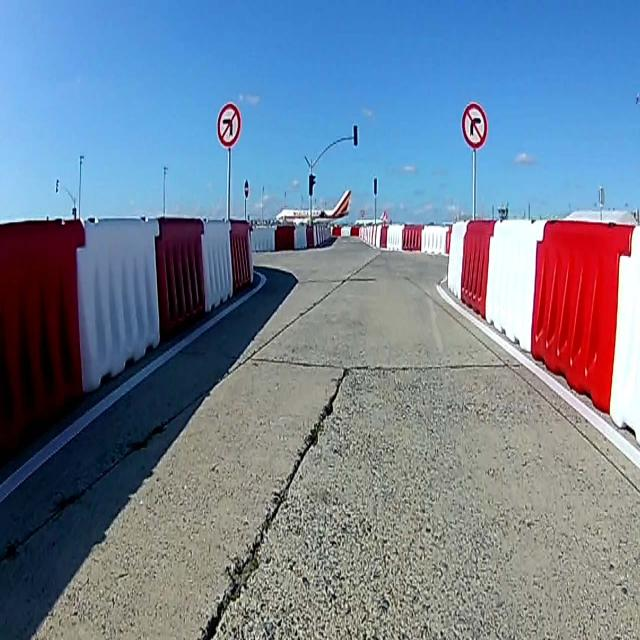sagadonulmez: (461, 102, 486, 150)
soladonulmez: (217, 104, 243, 152)
